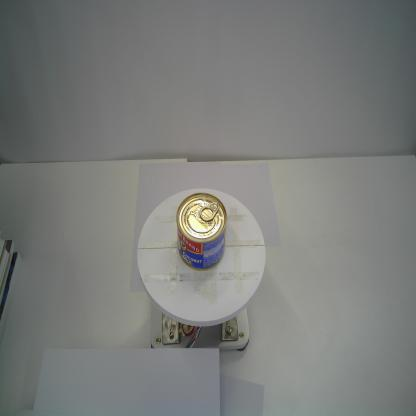Canned Food: (173, 190, 229, 272)
